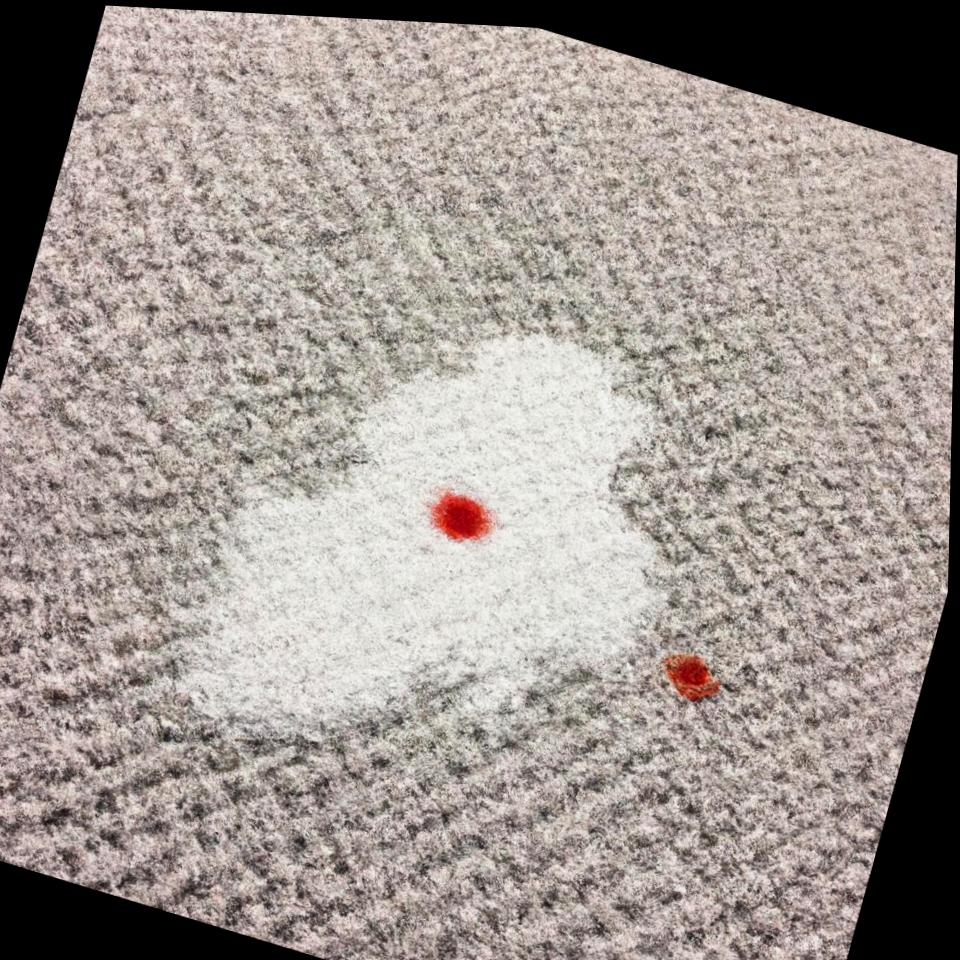Fire: (433, 485, 494, 535), (665, 645, 722, 692)
